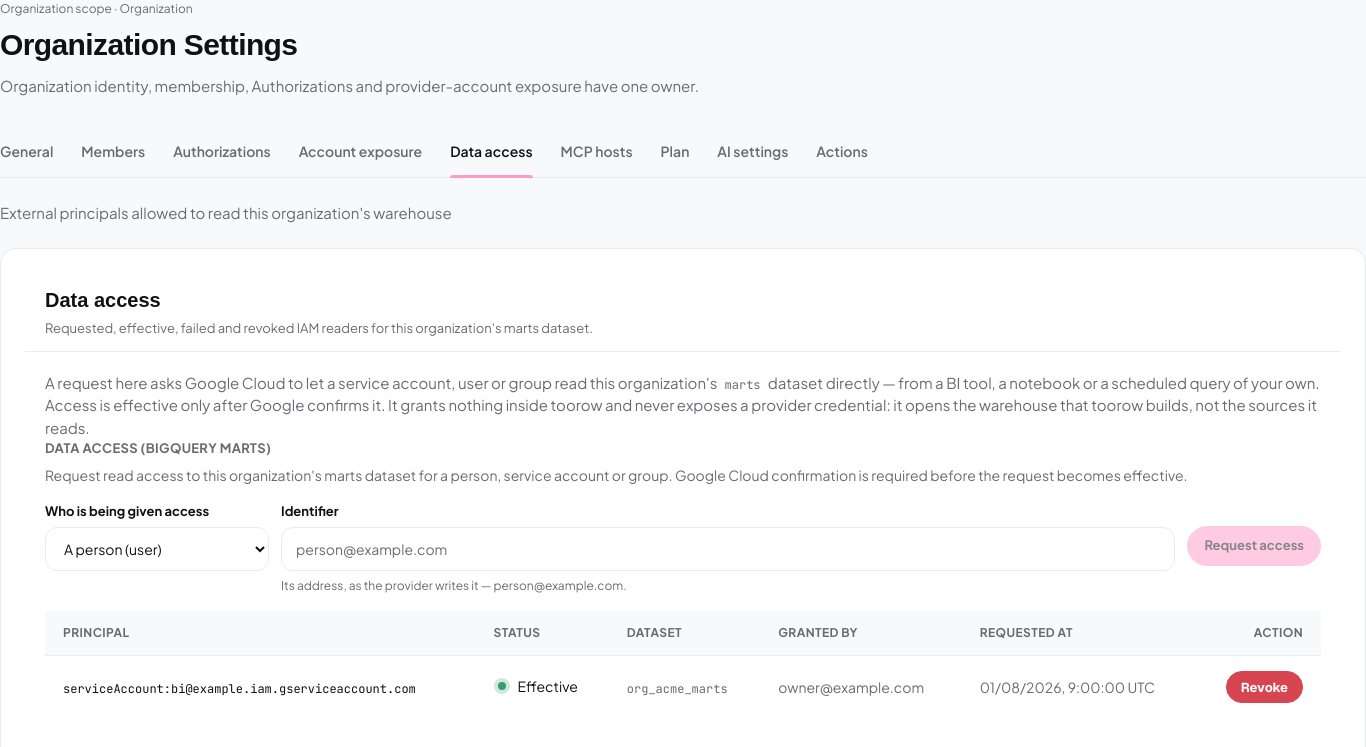
it: Data access › reports a refused grant instead of swallowing it
Select "A service account" in the dropdown with test id "data-access-principal-kind": (157, 549) [45,527,269,571]
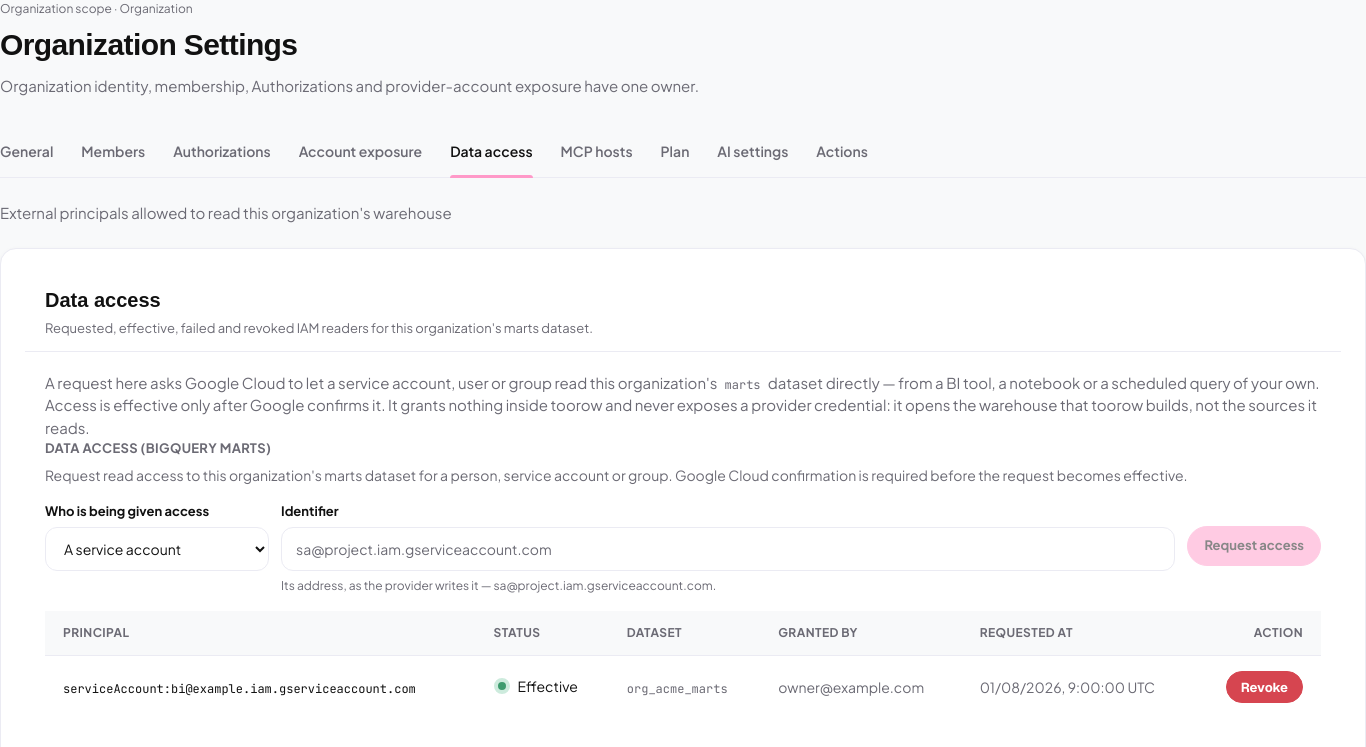
In the field with test id "data-access-principal-input": (728, 549) [281,527,1175,571], type "new@example.iam.gserviceaccount.com"
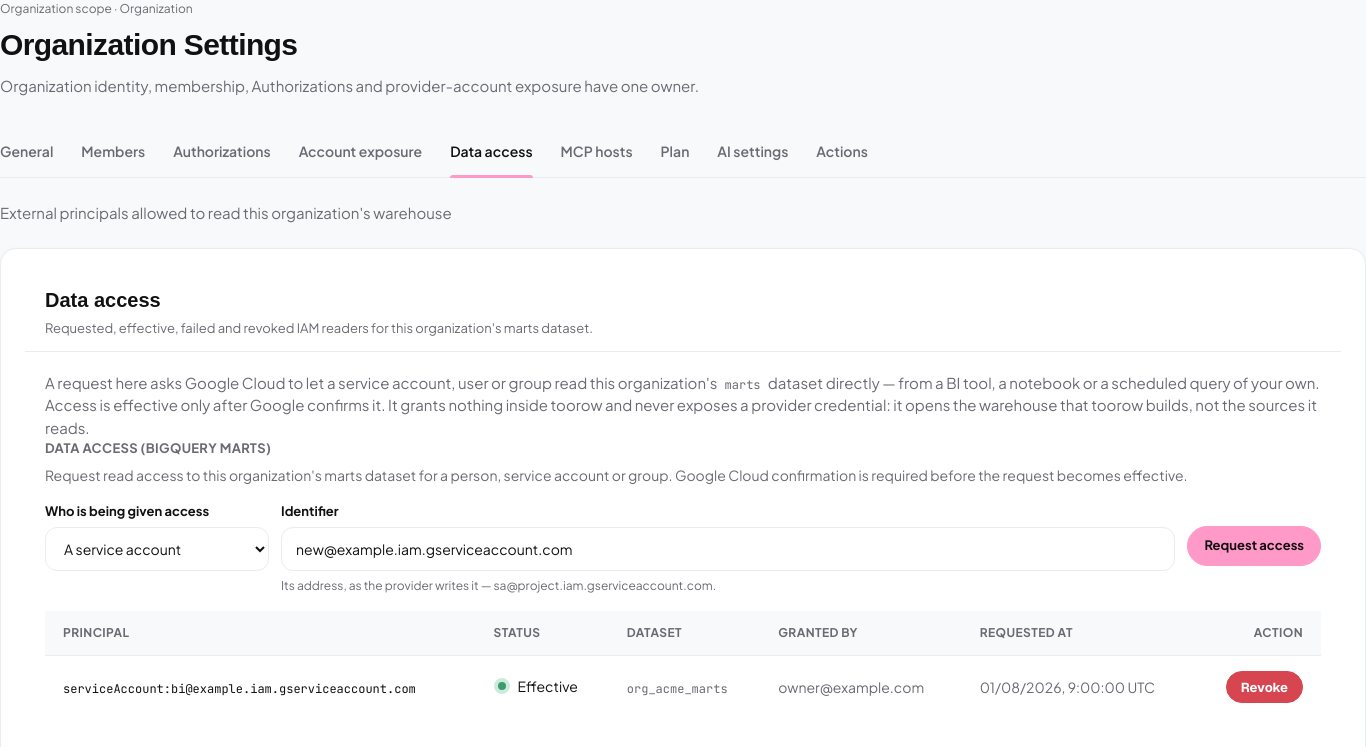
Click the button with test id "data-access-grant-button": (1254, 546) [1187,526,1321,566]
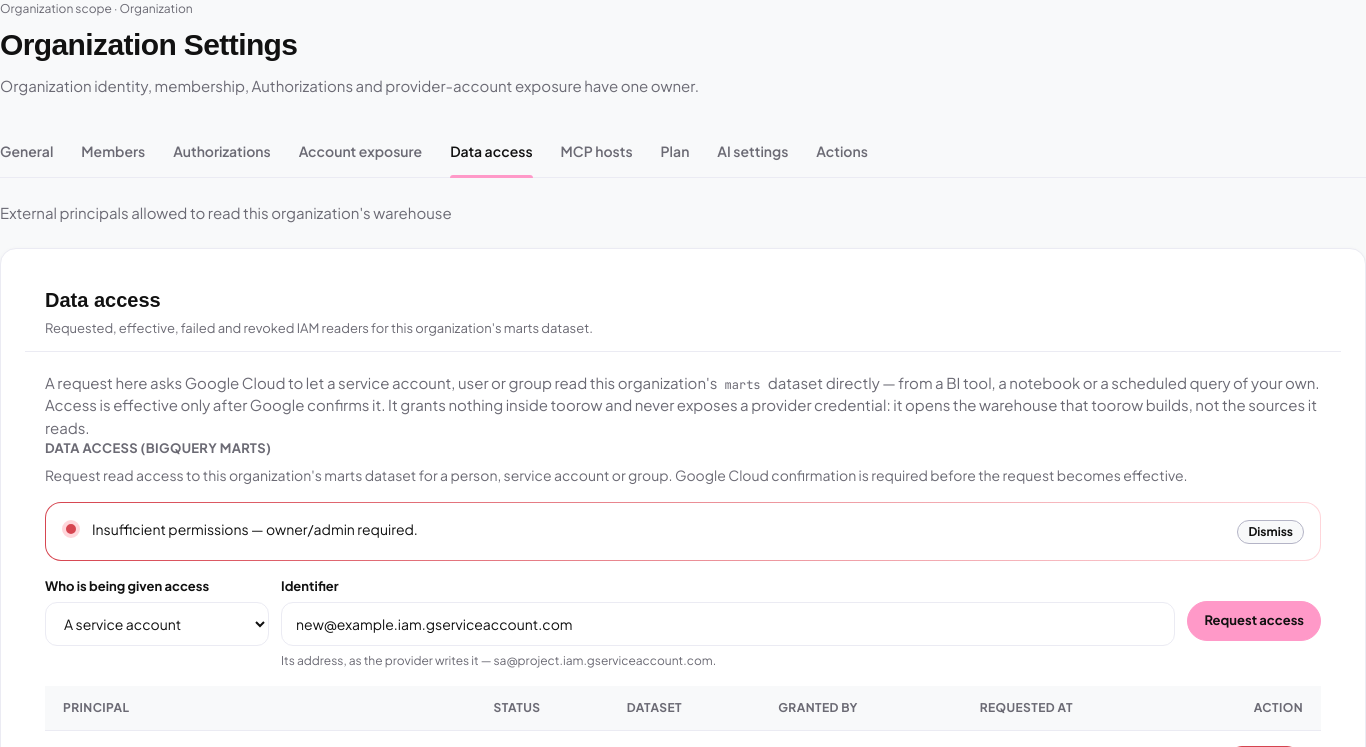
expect the message "Insufficient permissions — owner/admin required. Dismiss" is shown: met, box [45,502,1321,560]
